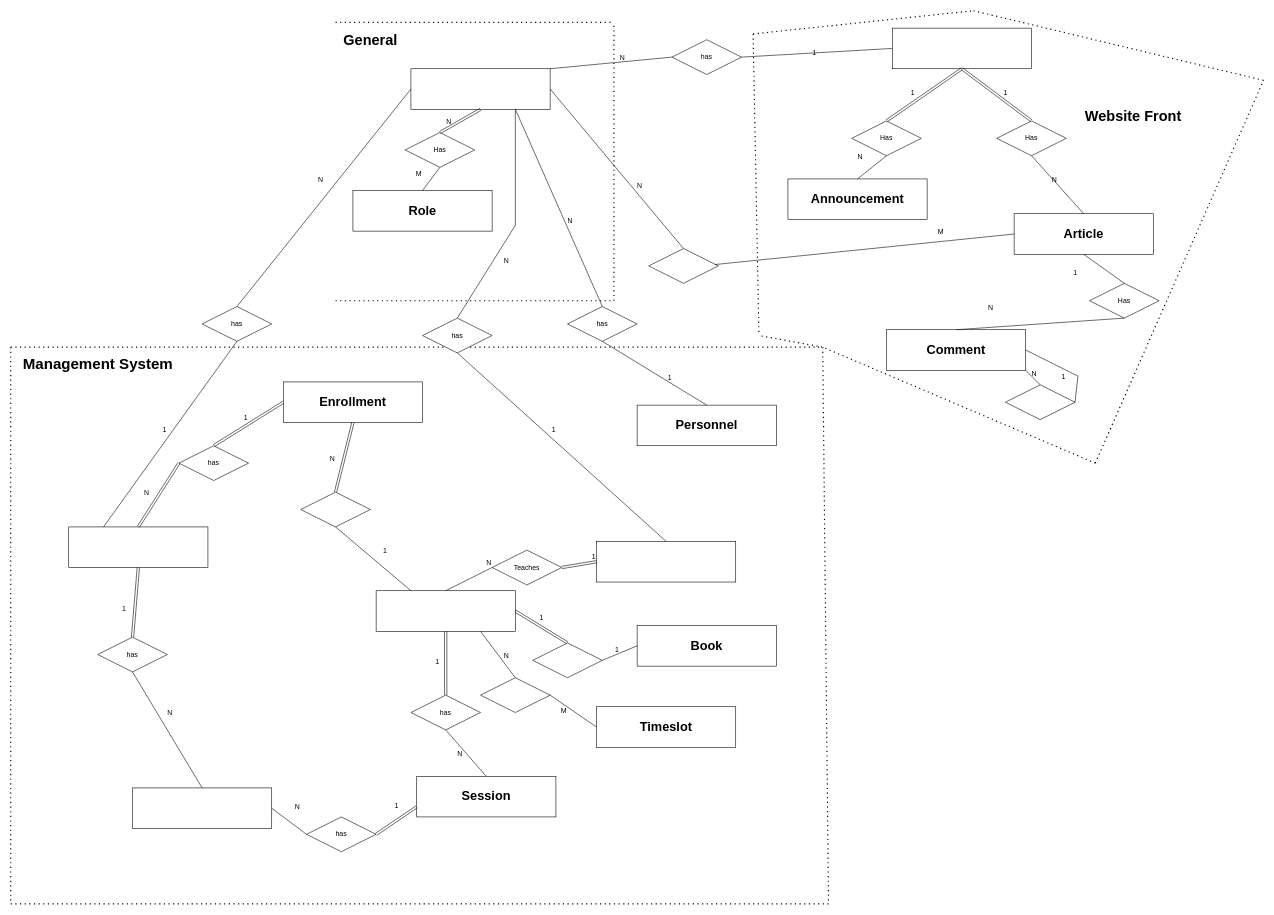
The diagram is 1274 pixels wide and 915 high, and some of its shapes have lost their labels. Here are the shapes that lost their labels. From the top down, the box of each, then its label:
(892, 28, 1032, 69): Author
(410, 68, 550, 109): User
(648, 248, 718, 283): is_favorites
(1005, 384, 1075, 420): Is_Reply
(300, 492, 370, 527): belongs_to
(68, 526, 208, 568): Student
(596, 541, 736, 582): Teacher
(376, 590, 515, 631): Class
(532, 642, 602, 678): uses
(480, 677, 550, 713): Scheduled
(132, 787, 272, 829): Attendance
